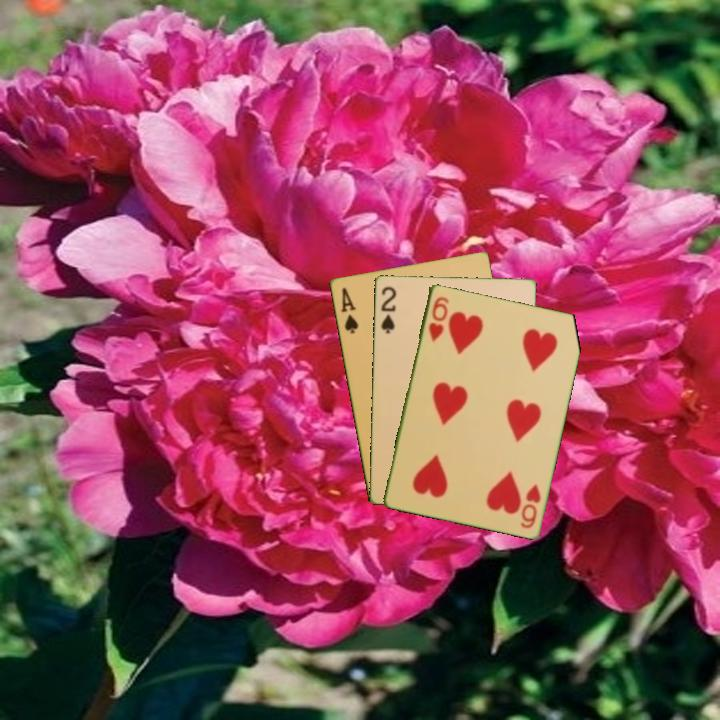2s: (377, 283, 399, 336)
6h: (425, 293, 451, 344), (517, 480, 543, 531)
As: (337, 284, 361, 336)
